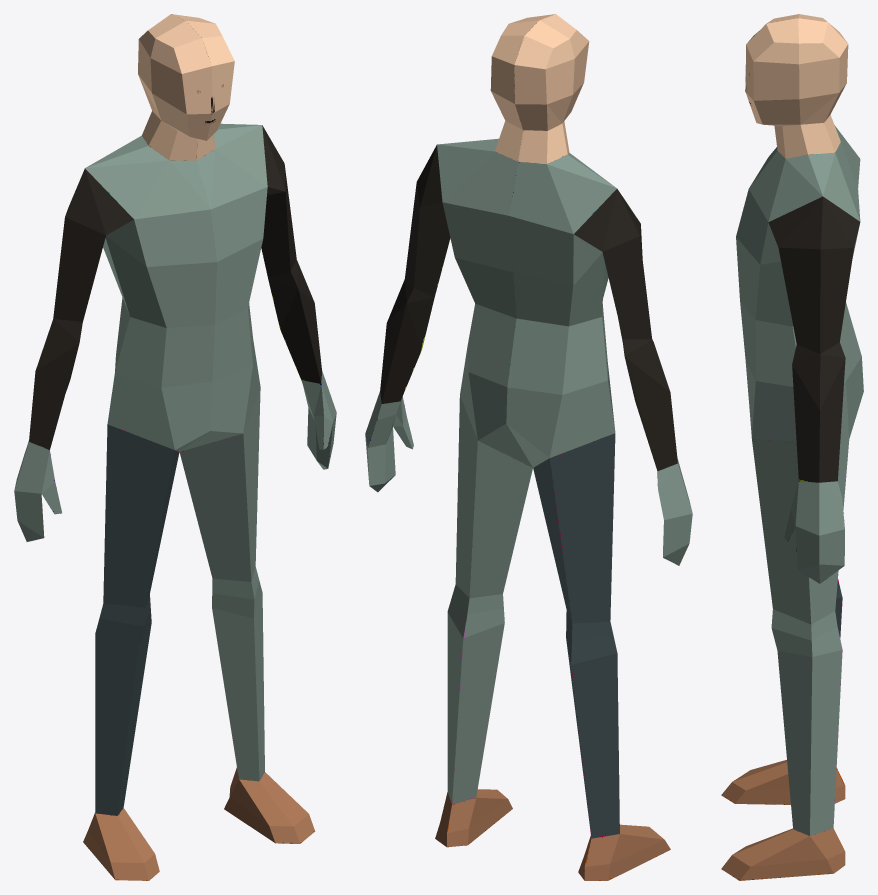
Rendered from nurse.glb.
3 views of the same model, side by side, from view 1: azimuth 30°, elevation 25°; view 2: azimuth 150°, elevation 25°; view 3: azimuth 270°, elevation 25° (orthographic).
Visible parts, largest first — view 1: nurse; view 2: nurse; view 3: nurse.
Boxes of the visible parts, x1,y1,x2,y2 form: nurse: (14, 14, 336, 880); nurse: (365, 14, 692, 880); nurse: (721, 14, 863, 880).
Bounding box in the file's own units: 0.7383 × 1.78 × 0.283.
1 material, 1 textured.
